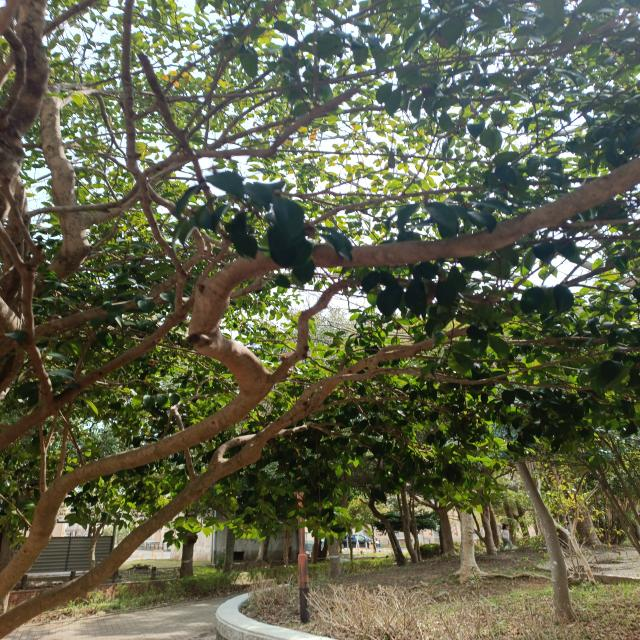Branch: (0, 156, 640, 604)
Twig: (0, 339, 432, 640), (2, 233, 228, 452), (1, 221, 52, 408), (208, 421, 343, 468)
